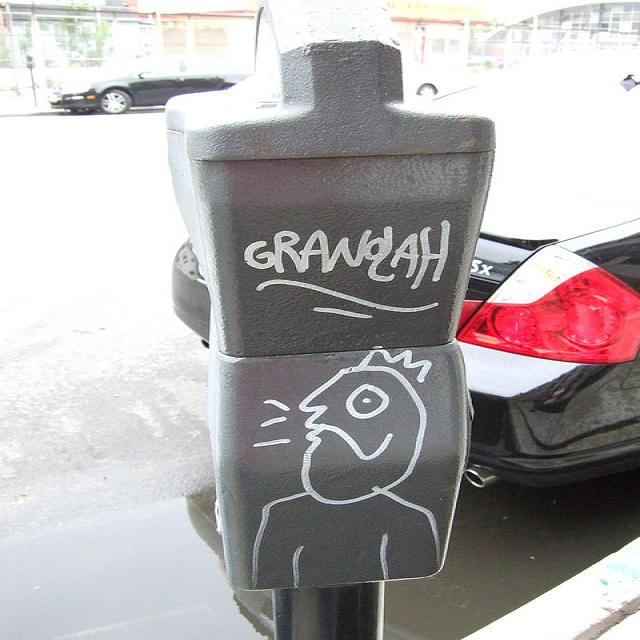Vehicle: (170, 4, 640, 493), (48, 72, 238, 118)
